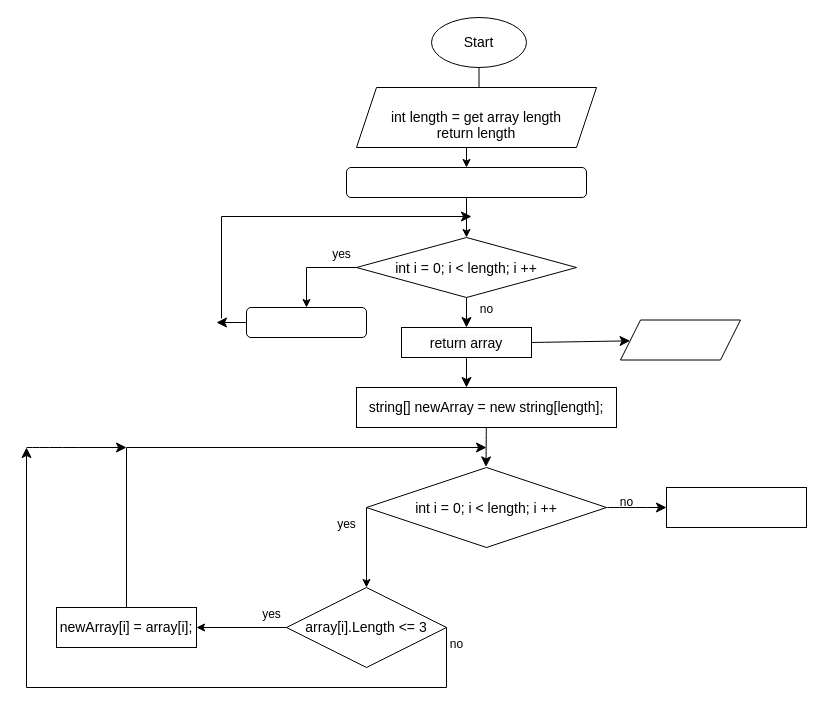
Image size: 824x715. Some labels were removed from this diagram. The shapes that lost their labels are listed below. From the top down, each one's centre as x and y in pixels, then its label:
At [466,182]: "string[] array = new string[length]".
At [306,322]: "get array[i]".
At [680,339]: "print array".
At [736,507]: "print newArray".
